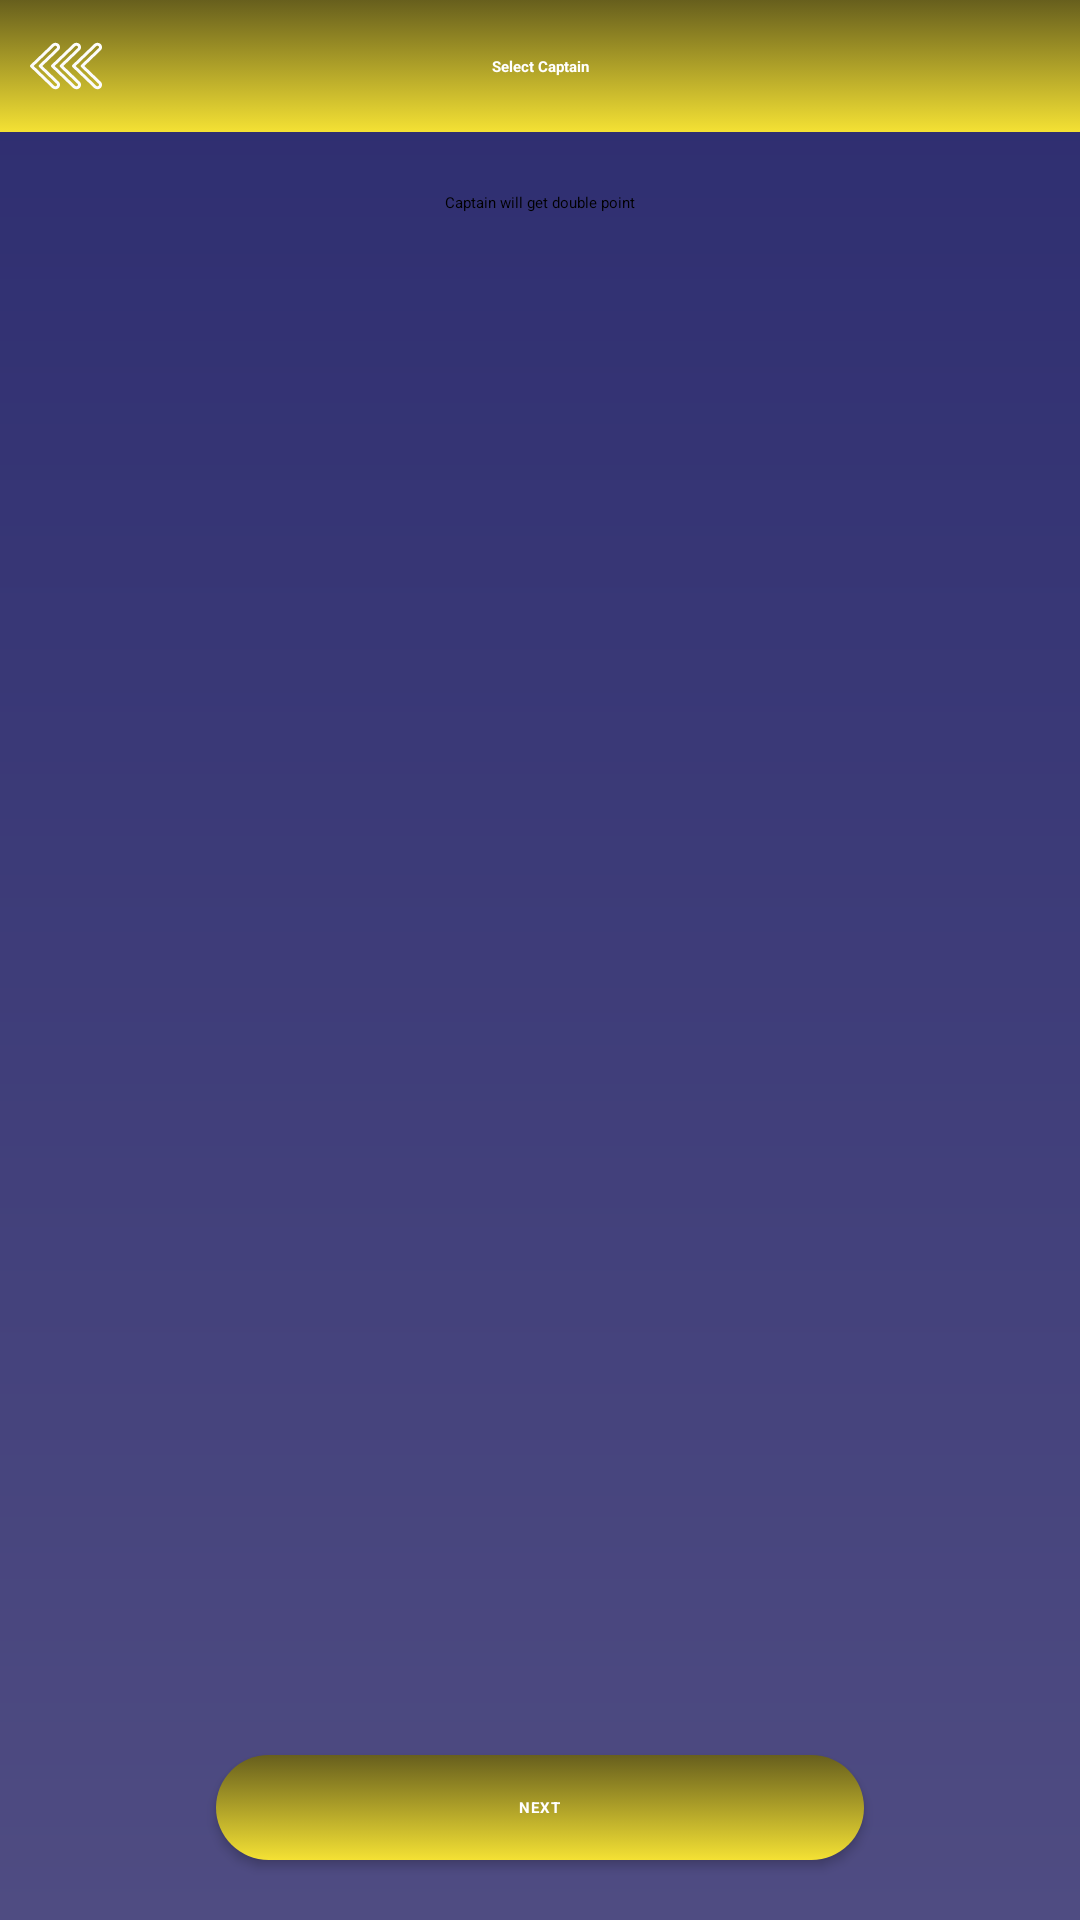

Point at icon controls on the screen. Image size 1080w x 1920h, points as point (x, y).
arrow back: point (66, 66)
